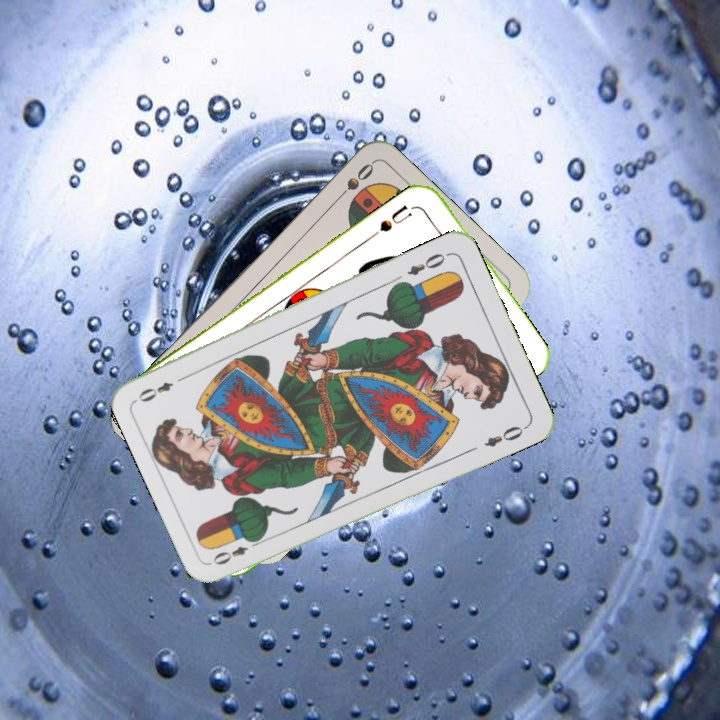EO: (208, 534, 264, 568), (403, 248, 452, 279)
SO: (330, 159, 377, 206)
SU: (375, 201, 421, 235)
